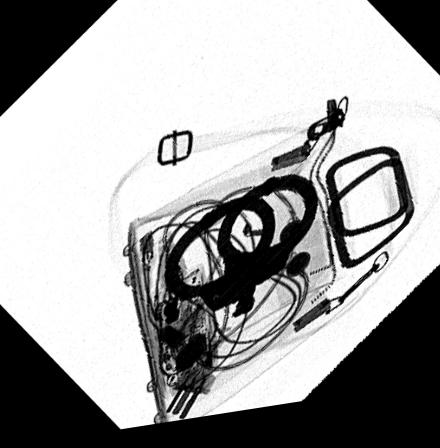HandCuffs: (162, 180, 319, 326)
